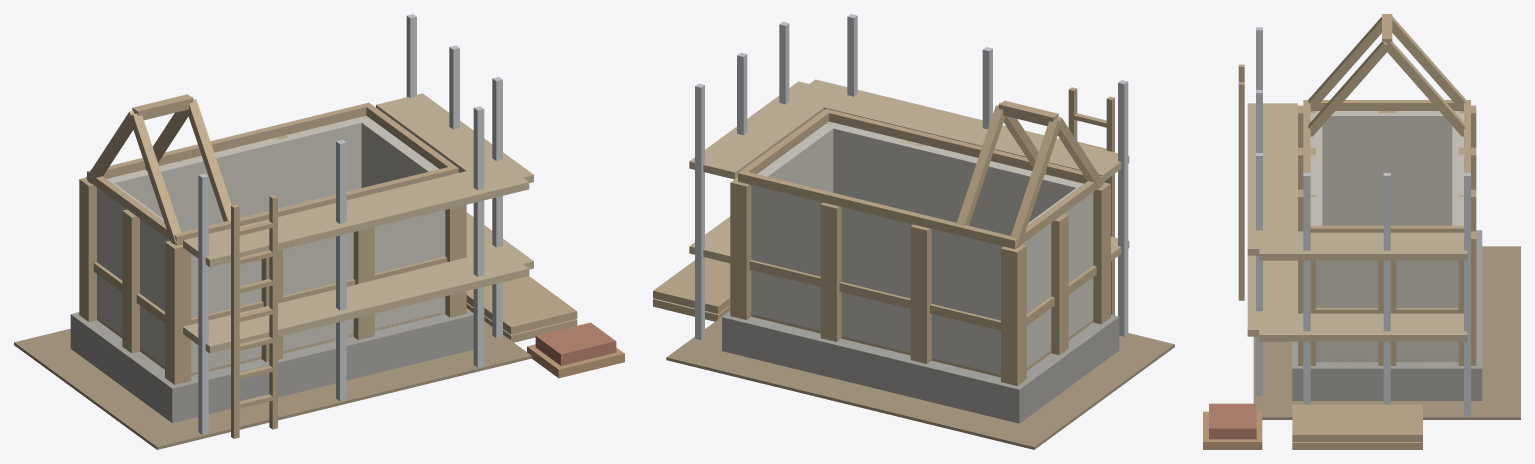
Rendered from garden_shed_site_8.glb.
3 renders of one model, left to right at view 1: azimuth 30°, elevation 25°; view 2: azimuth 150°, elevation 25°; view 3: azimuth 270°, elevation 25°, orthographic. The views are drawn at different scales.
Visible parts, largest first — view 1: body; view 2: body; view 3: body.
Part boxes in pixels (left/top/right/bottom): body: left=14, top=14, right=624, bottom=449; body: left=653, top=14, right=1174, bottom=449; body: left=1203, top=14, right=1520, bottom=449.
Size of the model in its own units: 1.2 by 0.7155 by 0.8.
